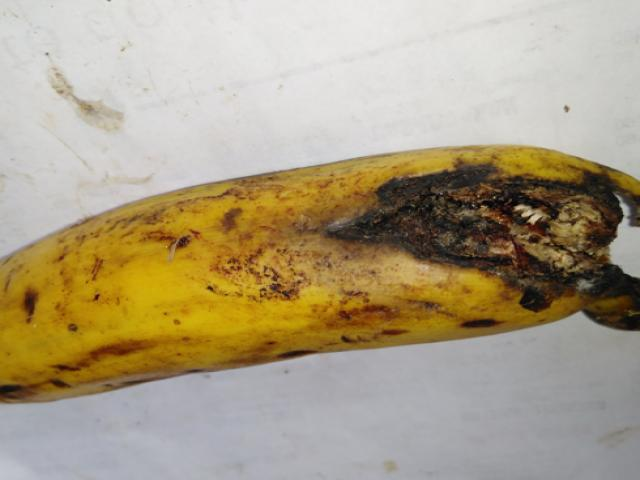rotten: (302, 125, 639, 364)
